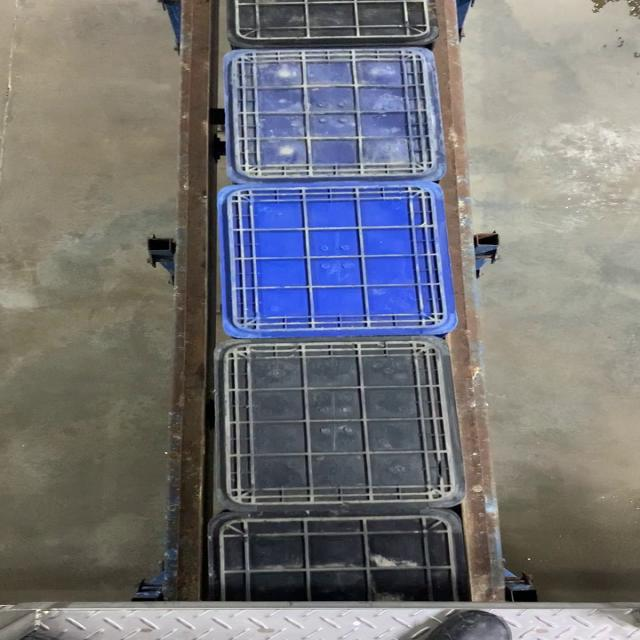Box: (208, 338, 467, 512), (216, 182, 460, 336), (218, 47, 444, 181)
